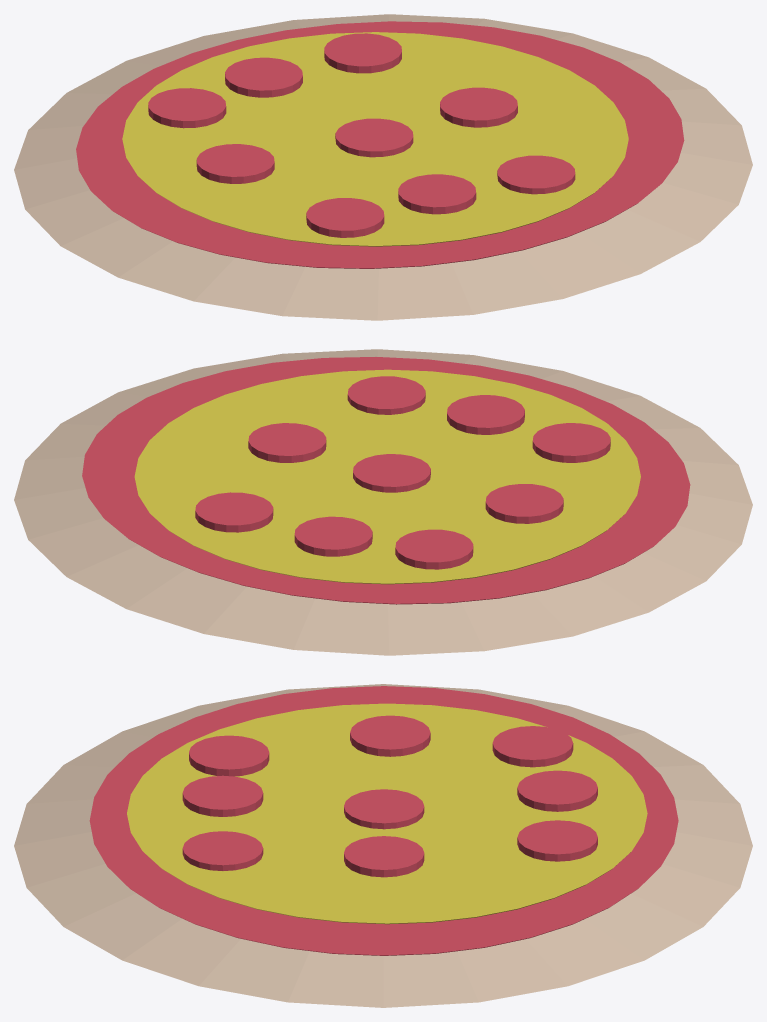
File: pep-pizzza.glb
3 views of the same model, one above another, from view 1: azimuth 30°, elevation 25°; view 2: azimuth 150°, elevation 25°; view 3: azimuth 270°, elevation 25° (orthographic). The views are drawn at different scales.
Visible parts, largest first — view 1: Mesh_Mesh_head_geo.001_lambert2SG.001; view 2: Mesh_Mesh_head_geo.001_lambert2SG.001; view 3: Mesh_Mesh_head_geo.001_lambert2SG.001.
Boxes of the visible parts, x1,y1,x2,y2 form: Mesh_Mesh_head_geo.001_lambert2SG.001: [14, 14, 752, 320]; Mesh_Mesh_head_geo.001_lambert2SG.001: [14, 349, 752, 655]; Mesh_Mesh_head_geo.001_lambert2SG.001: [14, 684, 752, 1007].
Bounding box in the file's own units: 124 × 10.76 × 119.
